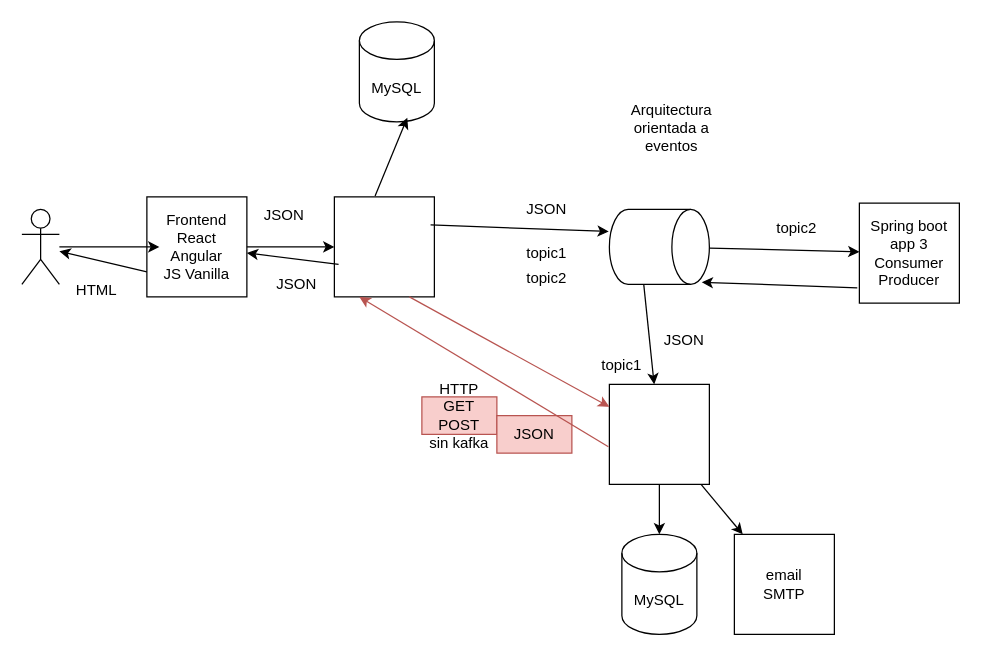
This 981x656 diagram has some shape labels left out. Each missing label, with the box of its shape:
Actor: (21, 208, 59, 284)
Kafka: (608, 208, 709, 284)
Spring boot app 1 Producer: (333, 196, 434, 297)
Spring boot app 2 Consumer: (608, 383, 709, 484)
